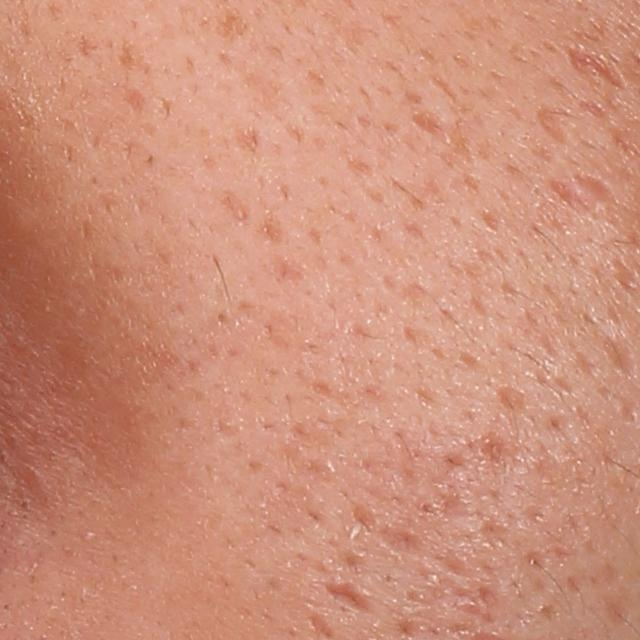atrophic_scar: (408, 111, 471, 167), (568, 42, 621, 88), (374, 520, 425, 561), (600, 334, 639, 377), (324, 582, 367, 613), (344, 501, 380, 538), (536, 104, 568, 144), (123, 84, 155, 122), (578, 175, 617, 206), (498, 385, 527, 415), (308, 612, 337, 639)
